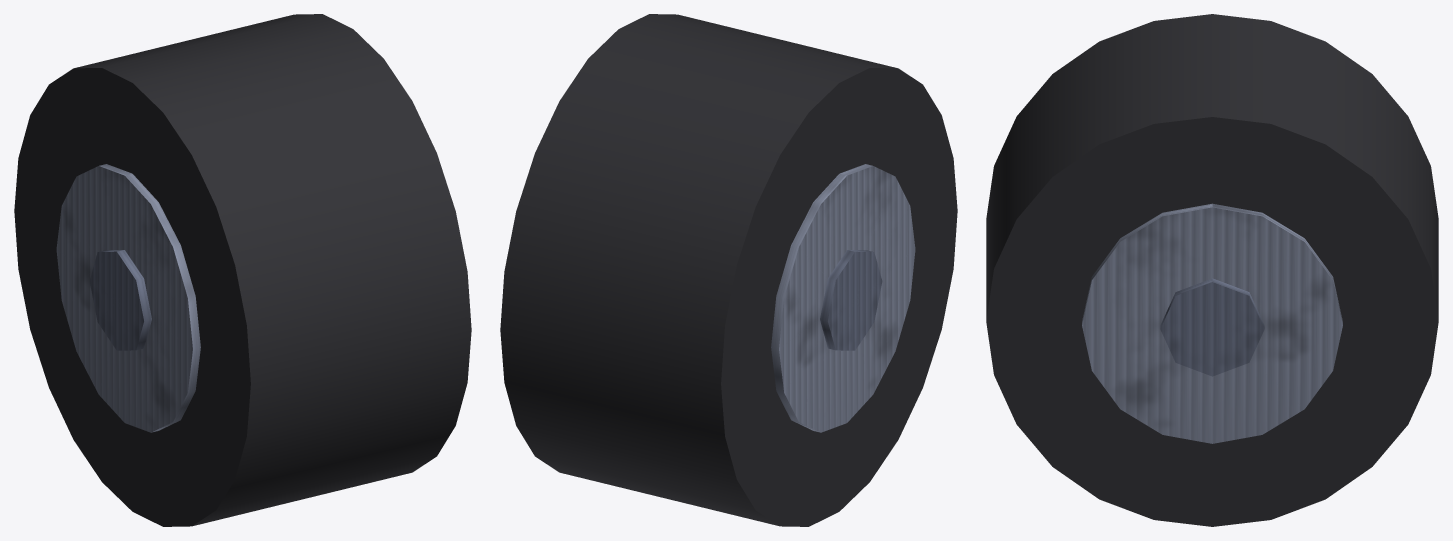
Rendered from wheel.glb.
The picture shows the model from 3 angles, left to right: view 1: azimuth 30°, elevation 25°; view 2: azimuth 150°, elevation 25°; view 3: azimuth 270°, elevation 25°; orthographic projection. The views are drawn at different scales.
Parts seen in each view (by area): view 1: wheel; view 2: wheel; view 3: wheel.
Boxes of the visible parts, x1,y1,x2,y2 form: wheel: (14, 14, 471, 526); wheel: (500, 14, 957, 526); wheel: (986, 14, 1438, 526).
Bounding box in the file's own units: 0.32 × 0.52 × 0.52.
Materials: 3 (2 with a texture image).
